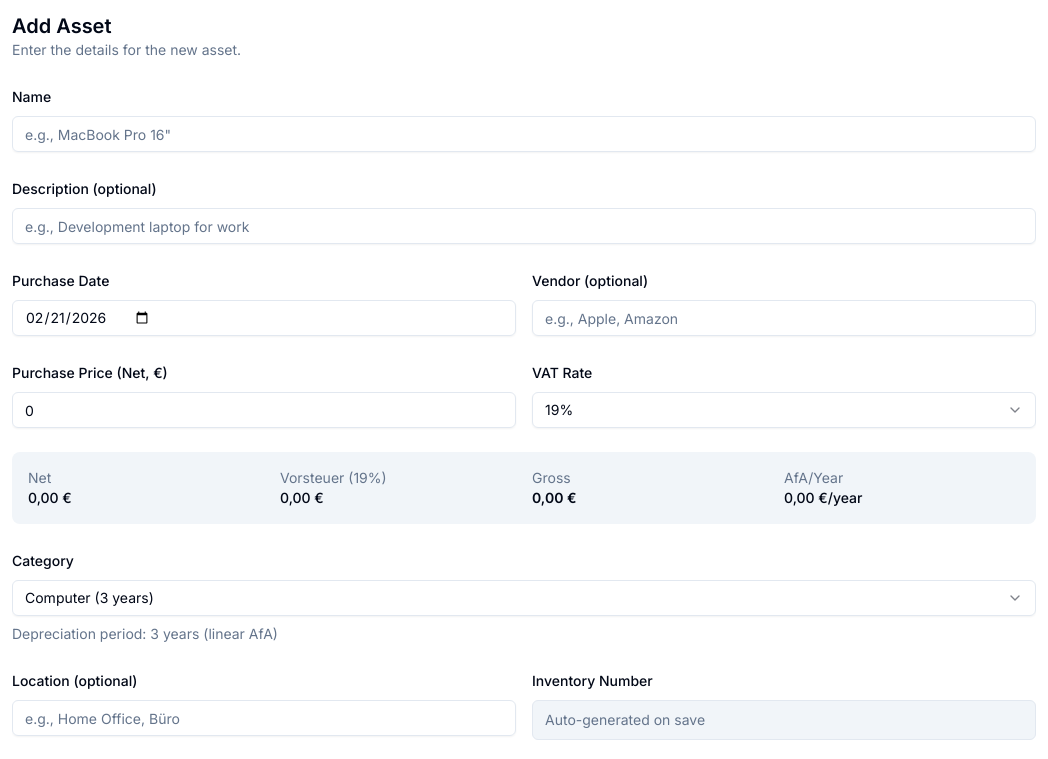
Test: AssetForm › category and AfA years › shows correct AfA years for each category
The image size is (1048, 759).
Replace the text in the number field labelled "Purchase Price (Net, €)" with "2000" at (264, 410), box [12,392,516,428]
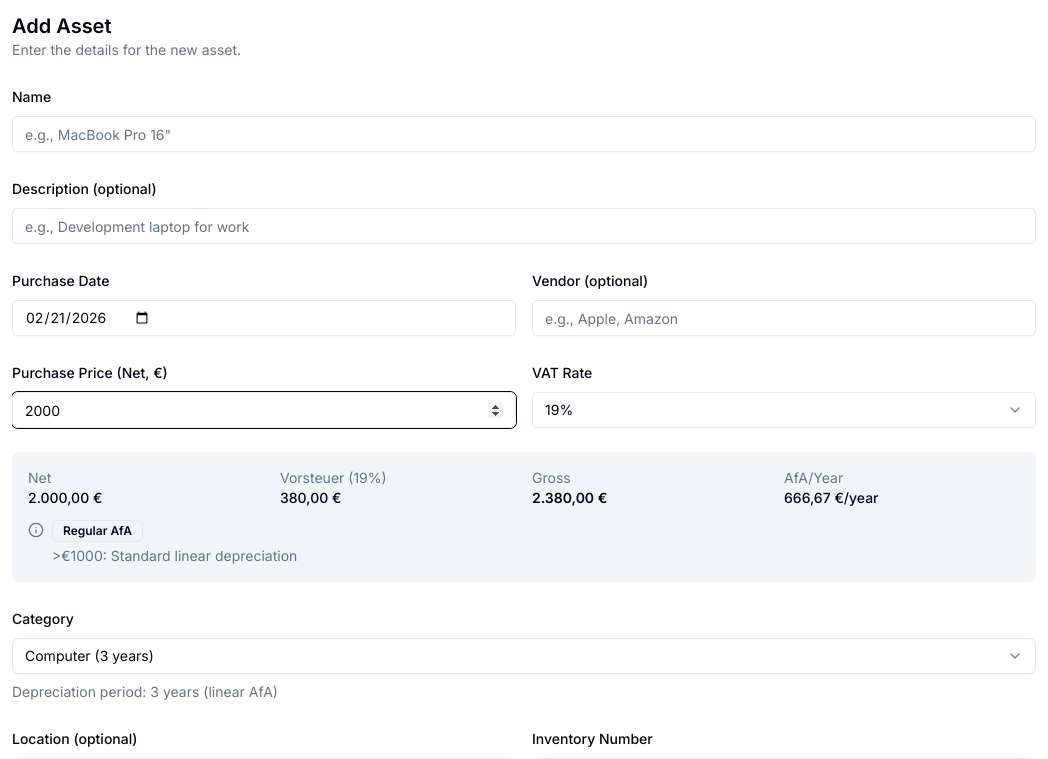
Check: the text "Depreciation period: 3 years (linear AfA)" is shown, box [12,683,278,700]
Test phone category
Click the dropdown named "category" at (89, 656), box [12,638,1036,674]
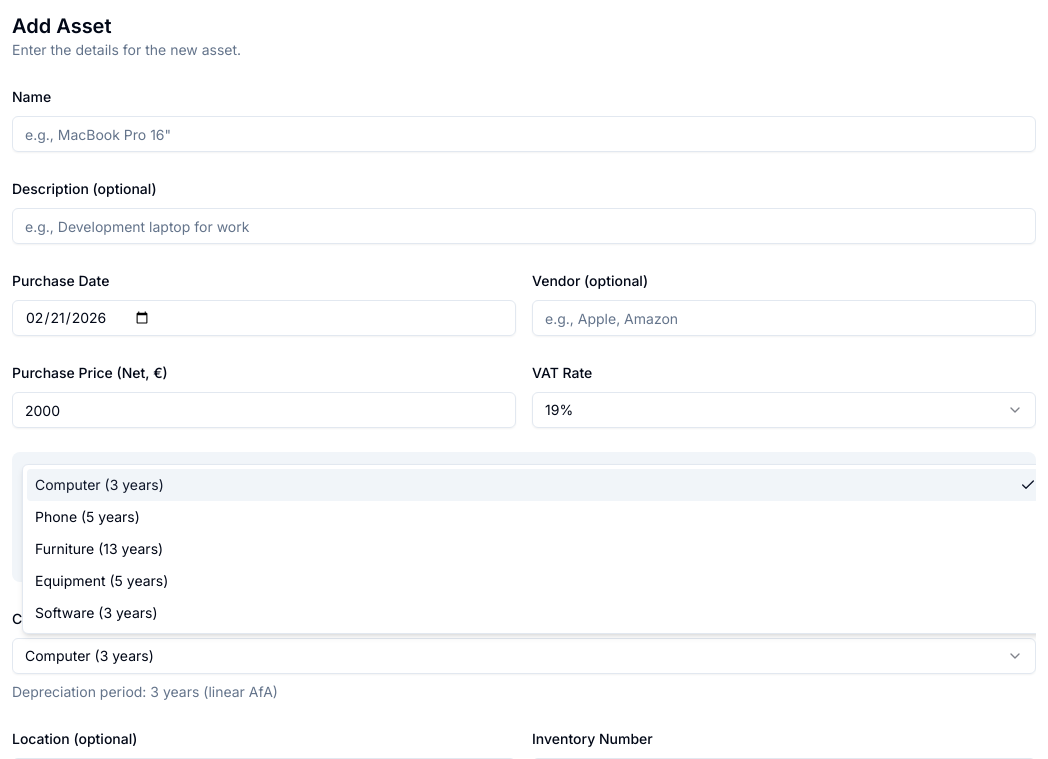
Click the option "Phone (5 years)" at (87, 516), box [35,508,140,525]
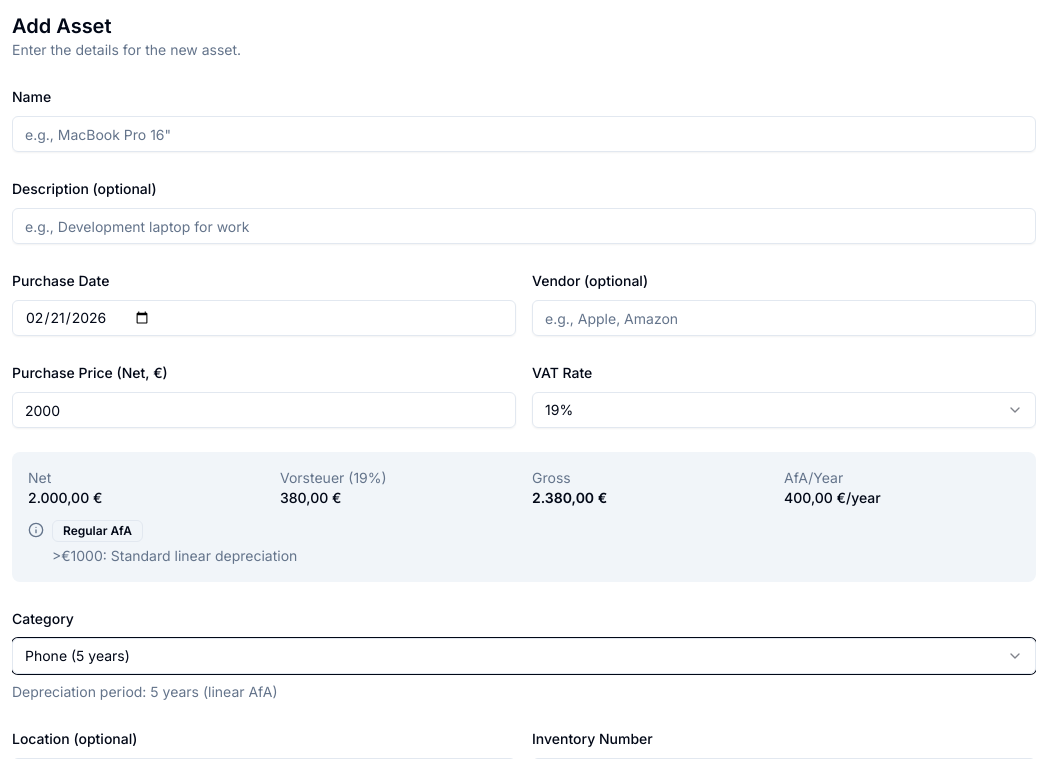
Check: the text "Depreciation period: 5 years (linear AfA)" is shown, box [12,683,278,700]
